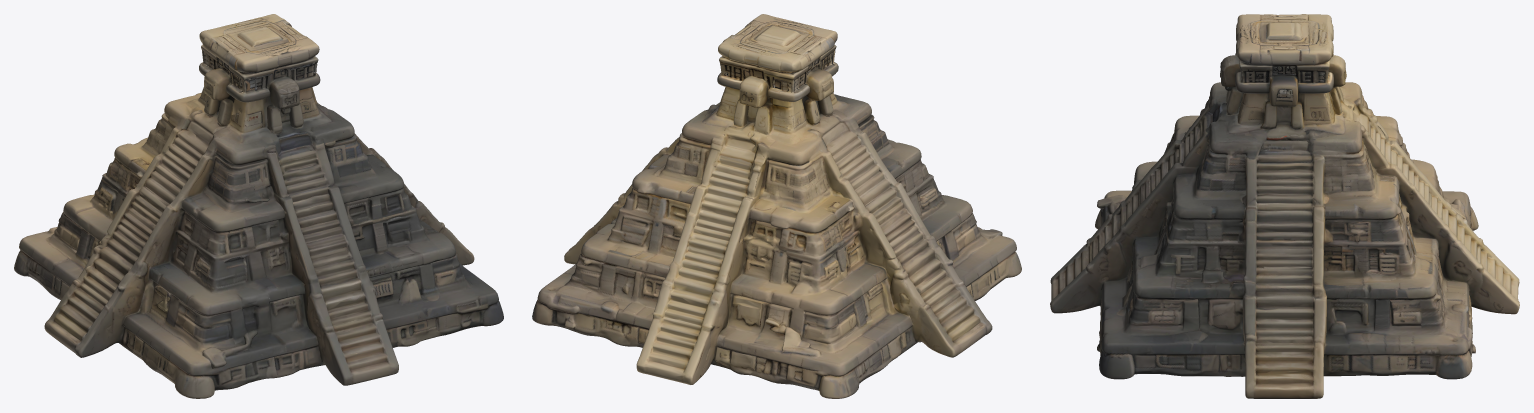
Rendered from building-pyramid.glb.
3 views of the same model, side by side, from view 1: azimuth 30°, elevation 25°; view 2: azimuth 150°, elevation 25°; view 3: azimuth 270°, elevation 25° (orthographic). The views are drawn at different scales.
Visible parts, largest first — view 1: tripo_node_597bad26-a970-4f45-859a-a5699c39c066; view 2: tripo_node_597bad26-a970-4f45-859a-a5699c39c066; view 3: tripo_node_597bad26-a970-4f45-859a-a5699c39c066.
Boxes of the visible parts, x1,y1,x2,y2 form: tripo_node_597bad26-a970-4f45-859a-a5699c39c066: (14, 14, 503, 398); tripo_node_597bad26-a970-4f45-859a-a5699c39c066: (532, 14, 1021, 398); tripo_node_597bad26-a970-4f45-859a-a5699c39c066: (1050, 14, 1519, 398).
Size of the model in its own units: 15.56 by 10 by 15.54.
1 material, 1 textured.
